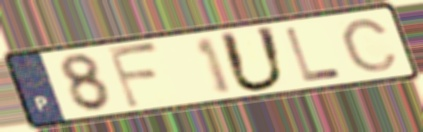1: (194, 34, 234, 98)
8: (58, 52, 115, 113)
C: (338, 17, 401, 74)
F: (104, 41, 164, 111)
L: (282, 25, 345, 84)
U: (215, 24, 290, 95)
